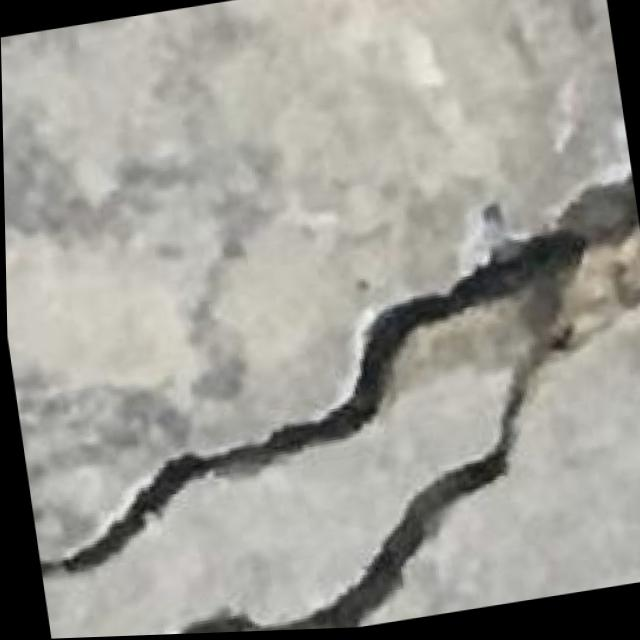Crack: (19, 174, 640, 640)
